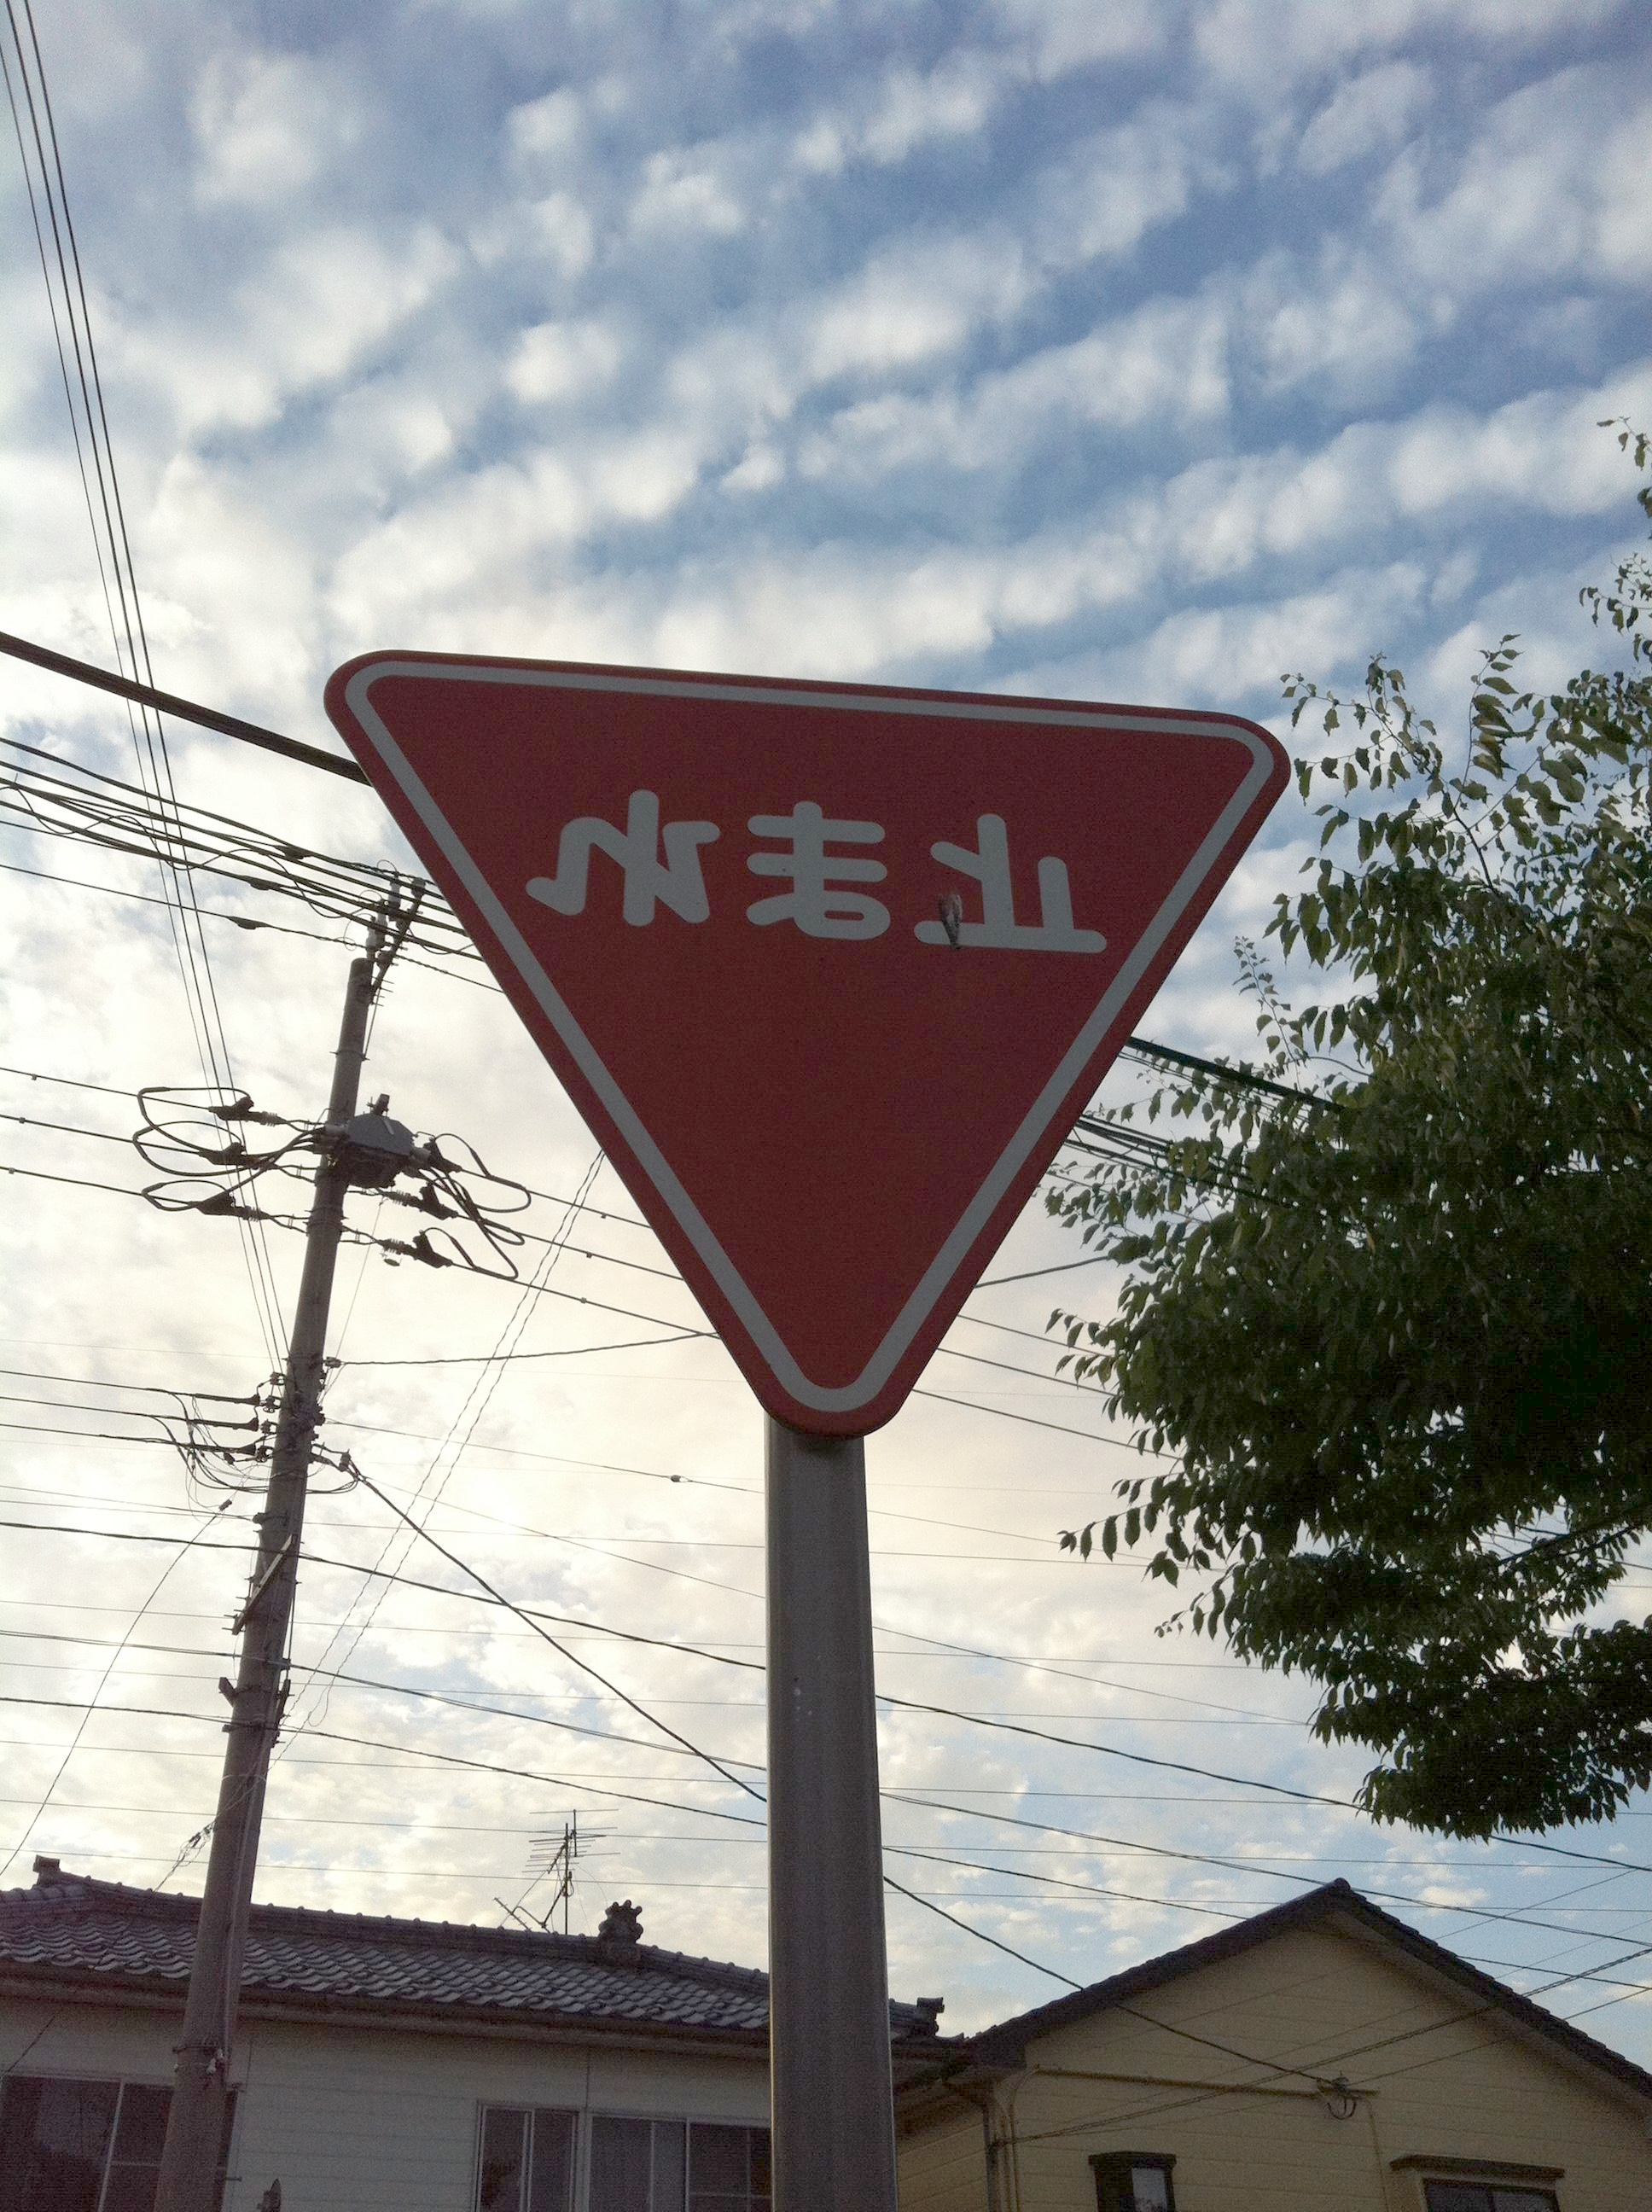Regulatory_sign_triangle: (309, 623, 1300, 1405)
